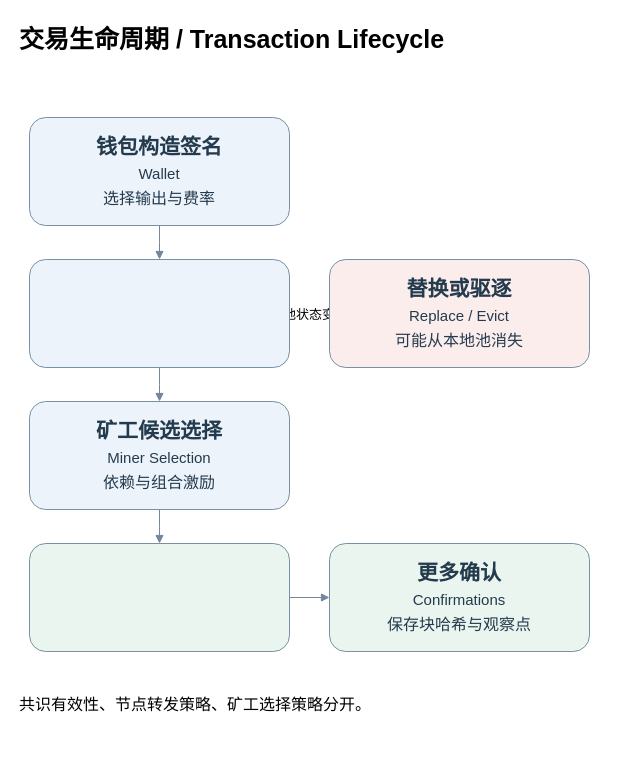
The diagram is 618 pixels wide and 775 high, and some of its shapes have lost their labels. Each missing label, with the box of its shape:
区块收录 Block Inclusion 有效历史定位: (28, 542, 290, 652)
节点本地交易池 Local Mempool 非全球统一: (28, 258, 290, 368)
